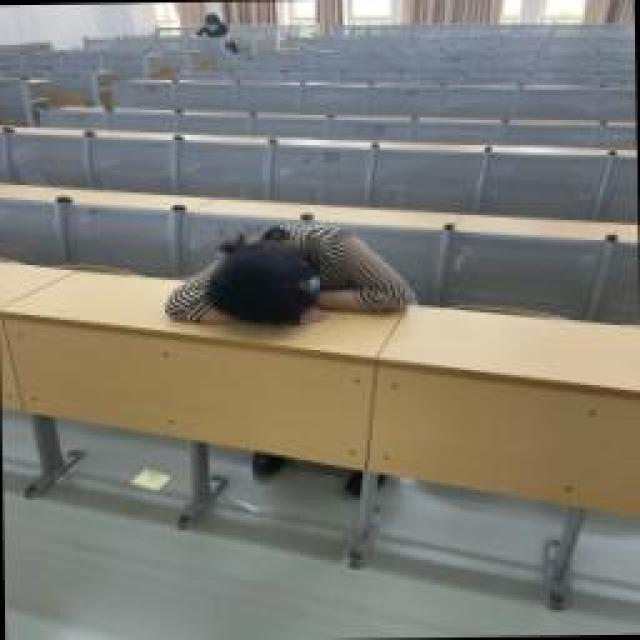sleep: (163, 210, 415, 338)
study: (198, 10, 230, 40)
